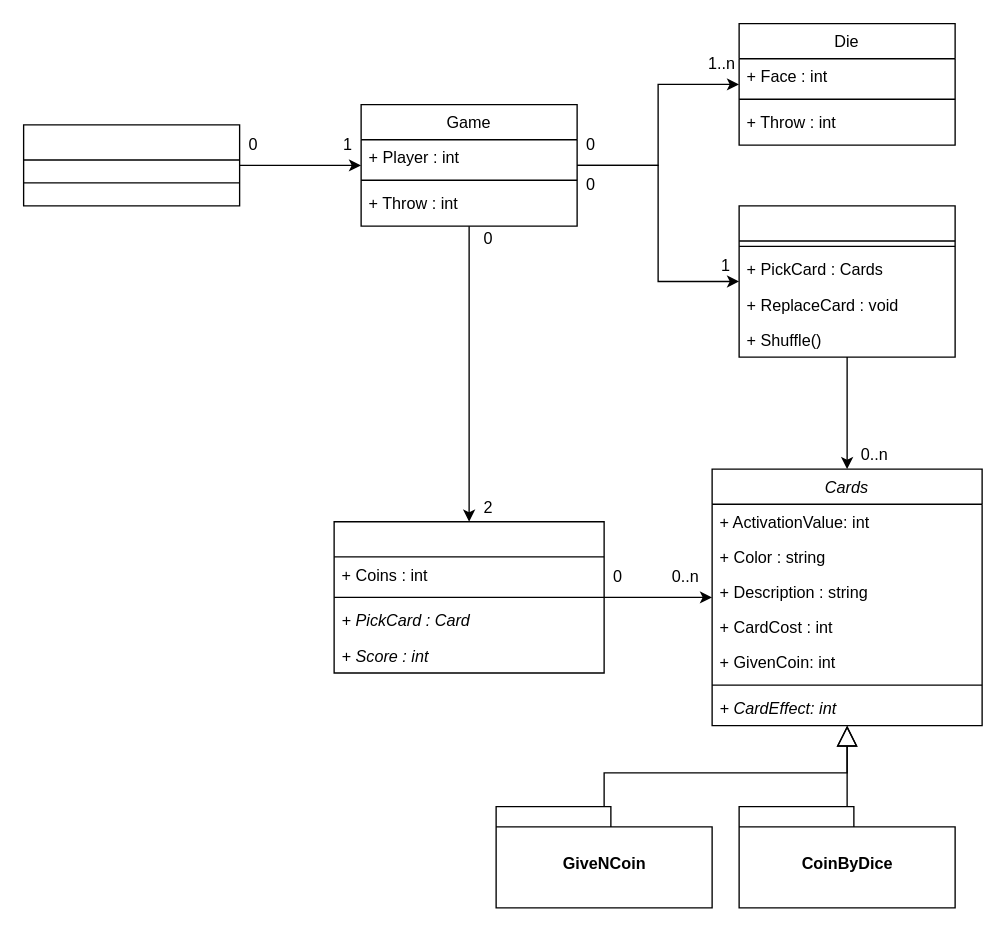
Some shapes in this 1006 by 932 pixel diagram are drawn without their labels. Each missing label, with the box of its shape:
Piles: (738, 205, 955, 357)
Player: (333, 520, 604, 673)
Program: (22, 124, 240, 206)
